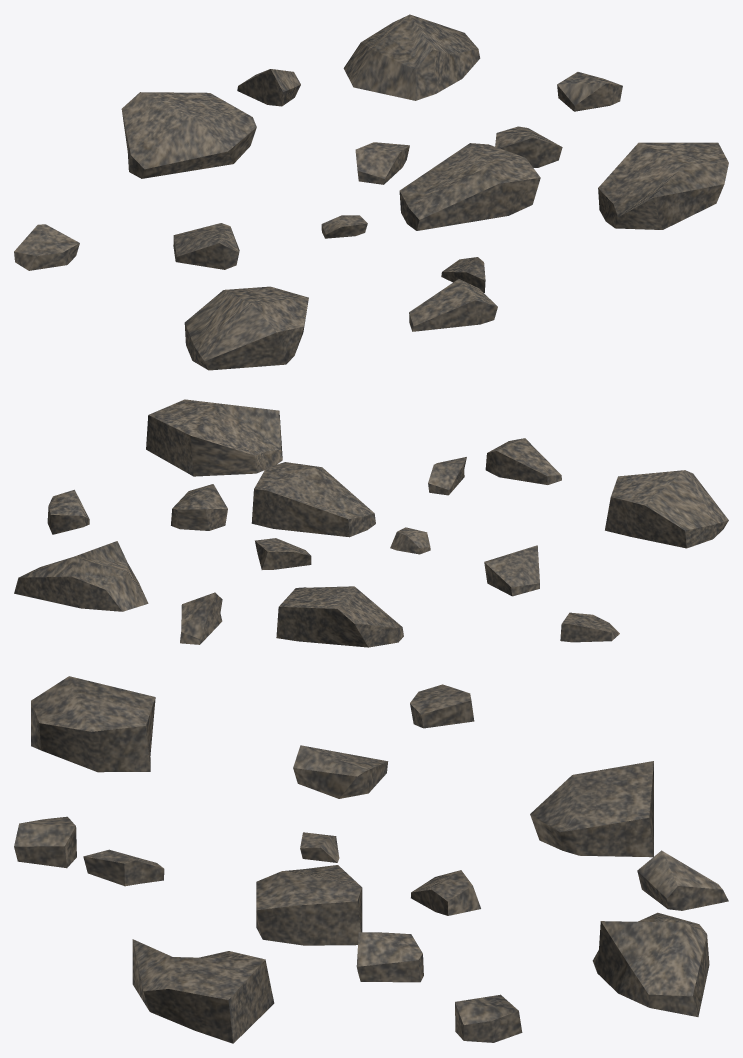
Rendered from SM_Broken_Stone.fbx.
3 renders of one model, top to bottom at view 1: azimuth 30°, elevation 25°; view 2: azimuth 150°, elevation 25°; view 3: azimuth 270°, elevation 25°, orthographic. The views are drawn at different scales.
Visible parts, largest first — view 1: SM_Broken_Stone; view 2: SM_Broken_Stone; view 3: SM_Broken_Stone.
Part boxes in pixels (bbox=[...]): SM_Broken_Stone: bbox=[14, 14, 728, 370]; SM_Broken_Stone: bbox=[14, 399, 728, 647]; SM_Broken_Stone: bbox=[14, 676, 728, 1043].
Size of the model in its own units: 156 by 14.45 by 135.
Materials: 1 (1 with a texture image).
